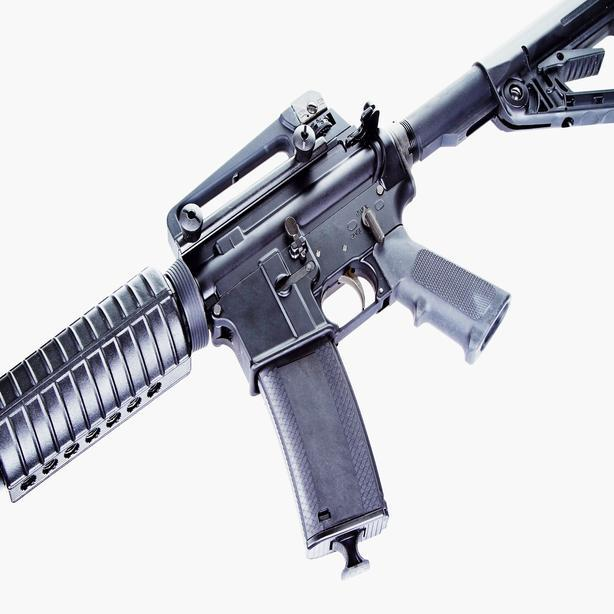Firearm: (0, 53, 614, 582)
